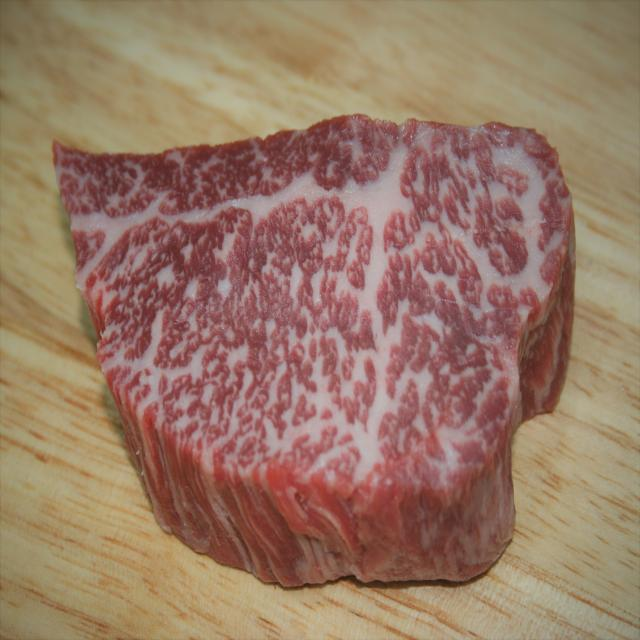beef: (71, 140, 523, 517)
